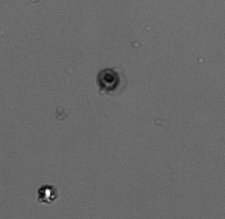Dead Cell: (98, 69, 118, 90)
Living Cell: (38, 184, 57, 202)
